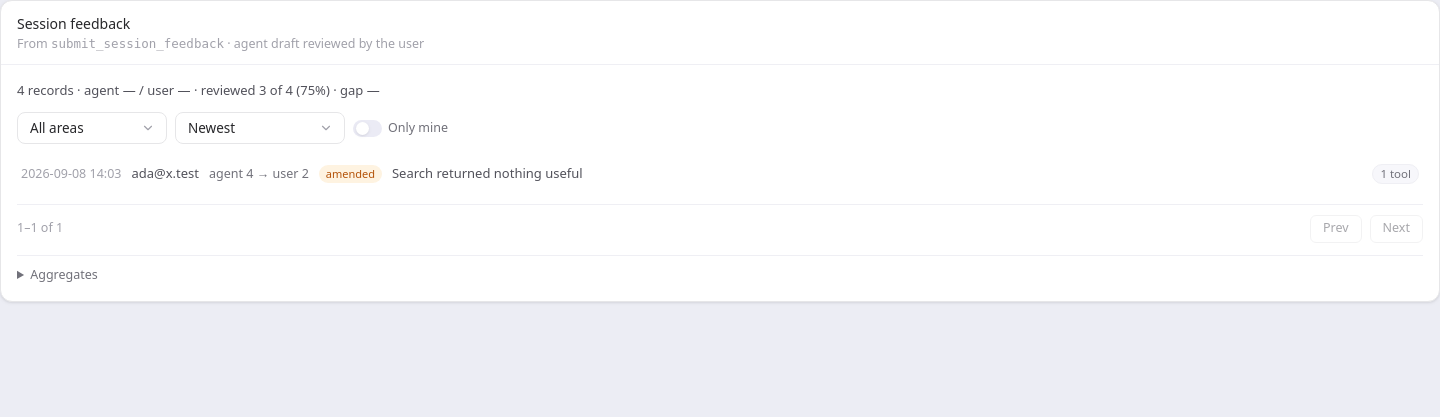
Test: records list › expands the row detail in place without another request
Expected: the text "Too many hits" is not shown
Step 1. Click the button named "Search returned nothing useful" → (71, 173), box left=17, top=156, right=1423, bottom=192
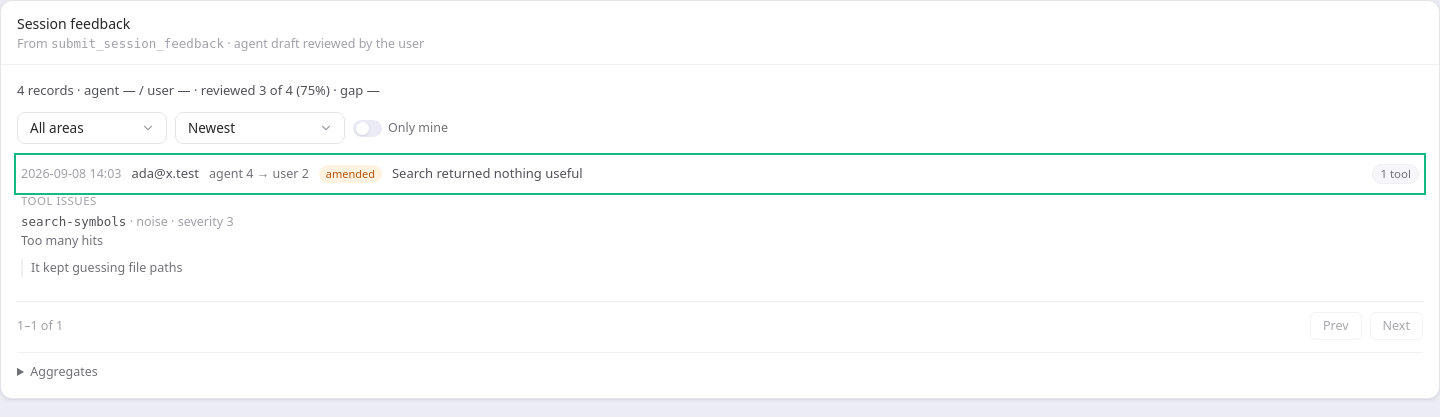
Result: the text "Too many hits" is shown at left=21, top=232, right=103, bottom=249
Result: the text "It kept guessing file paths" is shown at left=21, top=258, right=1419, bottom=277
